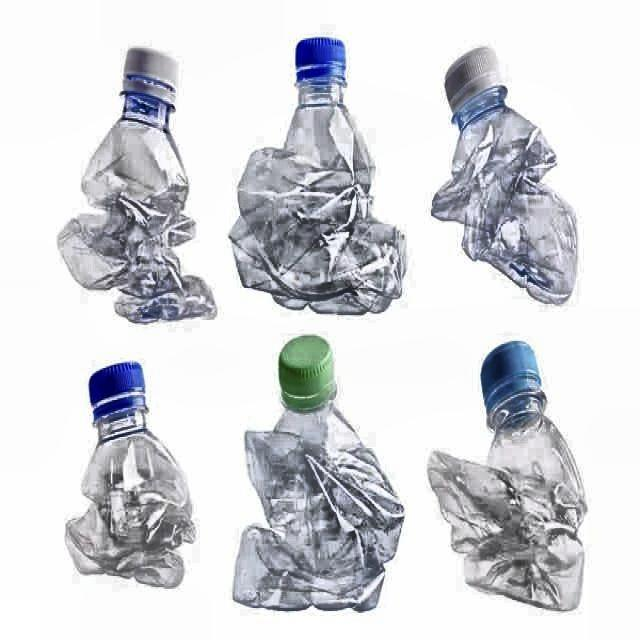plastic: (229, 37, 409, 318), (231, 334, 406, 614), (56, 47, 219, 325), (426, 340, 588, 614), (430, 46, 580, 308), (64, 361, 200, 593)
